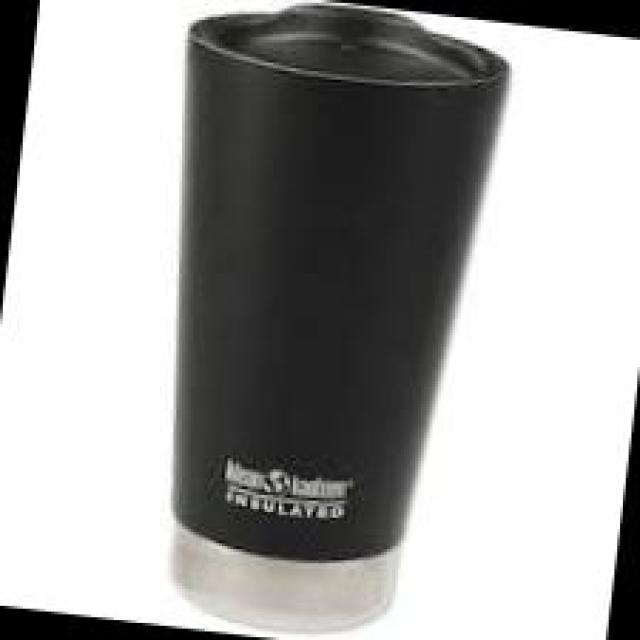bottle: (108, 0, 526, 640)
